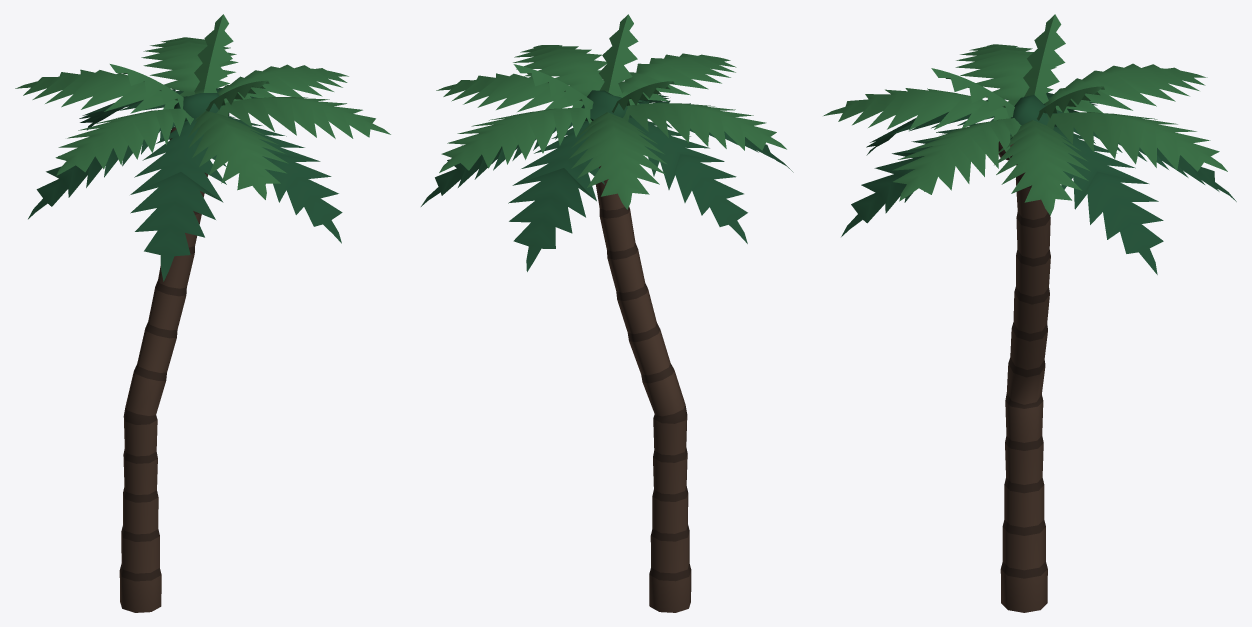
Rendered from palm_b.glb.
3 views of the same model, side by side, from view 1: azimuth 30°, elevation 25°; view 2: azimuth 150°, elevation 25°; view 3: azimuth 270°, elevation 25° (orthographic). The views are drawn at different scales.
Visible parts, largest first — view 1: body; view 2: body; view 3: body.
Part boxes in pixels (x1,y1,x2,y2): body: [15, 14, 390, 612]; body: [421, 14, 793, 612]; body: [823, 14, 1236, 612].
Size of the model in its own units: 4.14 by 6.57 by 4.26.
